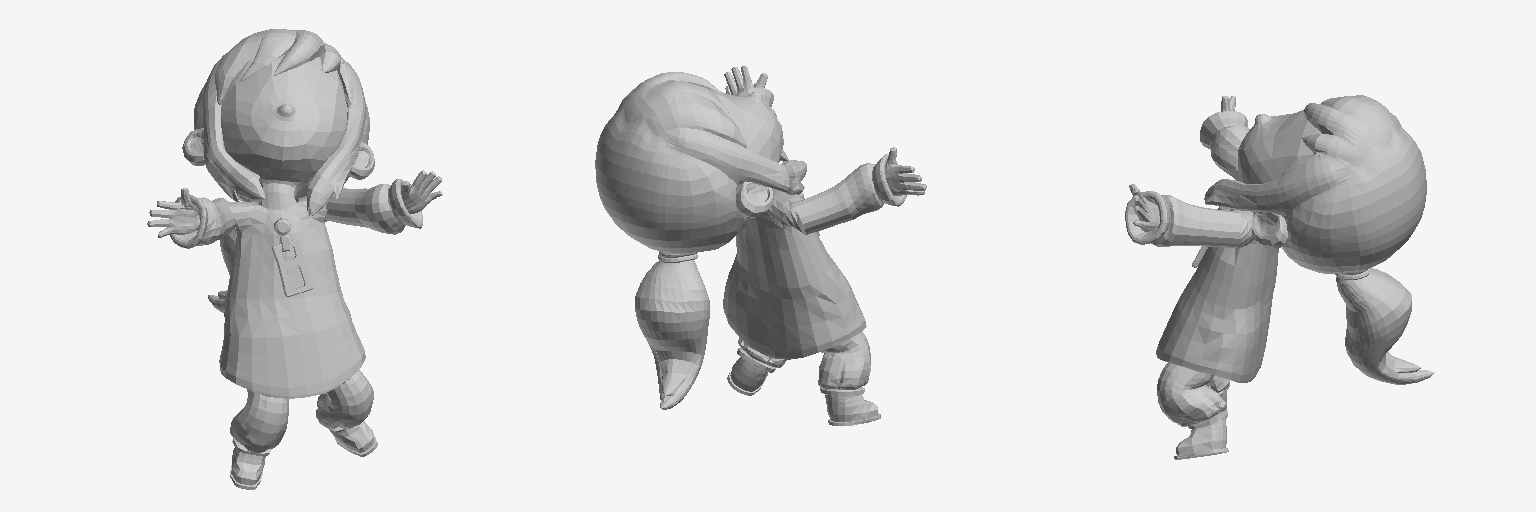
3 renders of one model, left to right at view 1: azimuth 30°, elevation 25°; view 2: azimuth 150°, elevation 25°; view 3: azimuth 270°, elevation 25°, orthographic.
Parts seen in each view (by area): view 1: hatkidbody.png, hatkidhair.png, hatkidbody, hatkidhair; view 2: hatkidbody.png, hatkidhair.png, hatkidhair, hatkidbody; view 3: hatkidbody.png, hatkidhair.png, hatkidhair, hatkidbody.
Part boxes in pixels (x1,y1,x2,y2): hatkidbody.png: (147,55,442,398); hatkidhair.png: (194,29,369,215); hatkidbody: (230,370,377,489); hatkidhair: (208,227,236,312); hatkidbody.png: (709,66,926,359); hatkidhair.png: (595,72,806,253); hatkidhair: (635,251,709,409); hatkidbody: (727,331,880,425); hatkidbody.png: (1125,96,1321,382); hatkidhair.png: (1204,95,1426,273); hatkidhair: (1335,268,1434,384); hatkidbody: (1157,363,1229,459).
Size of the model in its own units: 49.07 by 64.66 by 49.39.